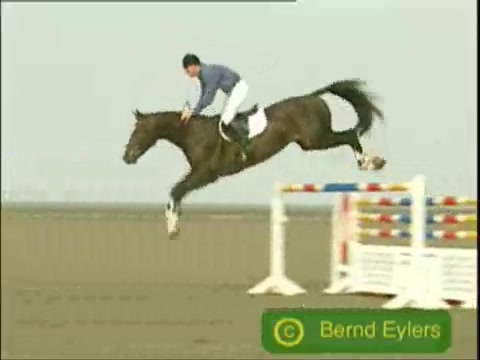horse: (124, 78, 389, 241)
